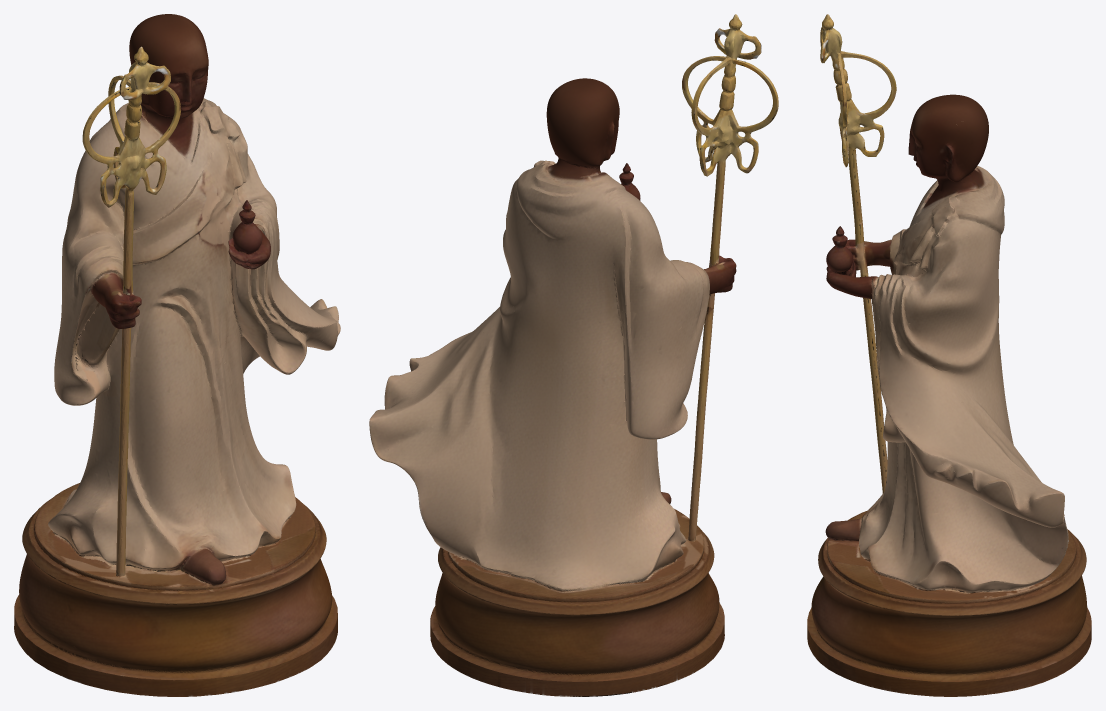
The model's file is bishop.glb.
3 views of the same model, side by side, from view 1: azimuth 30°, elevation 25°; view 2: azimuth 150°, elevation 25°; view 3: azimuth 270°, elevation 25° (orthographic). The views are drawn at different scales.
Parts seen in each view (by area): view 1: model; view 2: model; view 3: model.
Boxes of the visible parts, x1=… form: model: x1=14, y1=14, x2=340, y2=696; model: x1=369, y1=14, x2=778, y2=696; model: x1=807, y1=14, x2=1091, y2=696.
Bounding box in the file's own units: 1.01 × 1.9 × 0.8467.
Materials: 1 (1 with a texture image).
